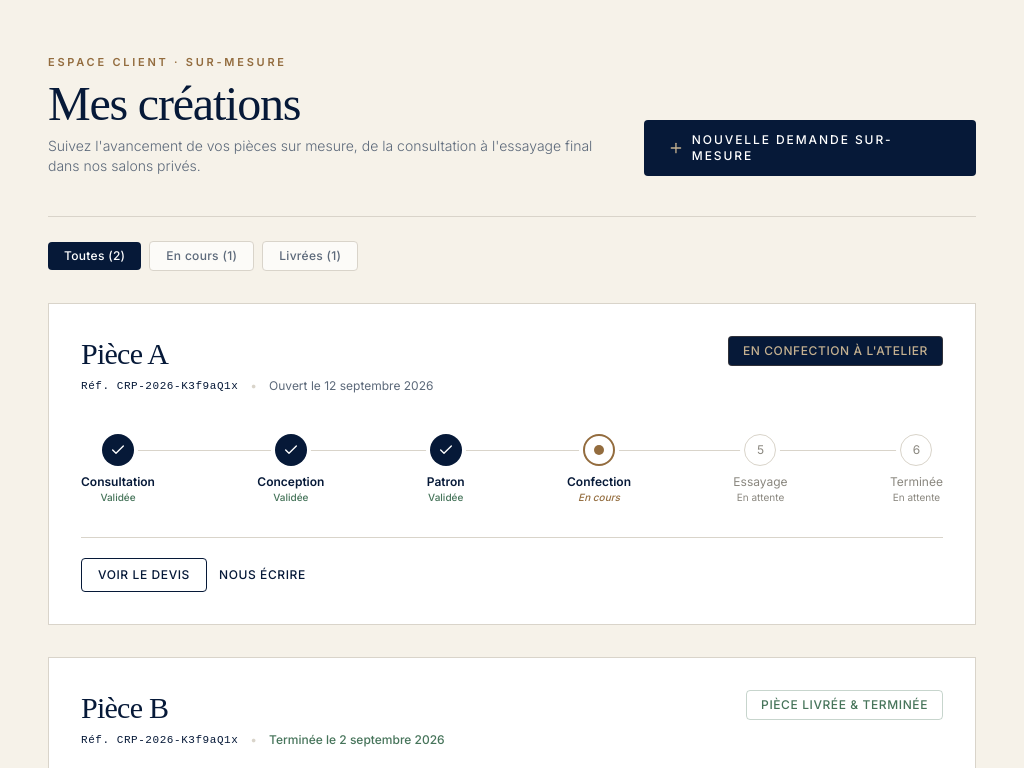
Test: MesCreationsPage › filters in-progress and delivered projects with counts
Expected: the tab "Toutes (2)" is shown, [48,242,141,270]
Click the tab "Livrées (1)".
click(310, 256)  # box [262,241,358,271]
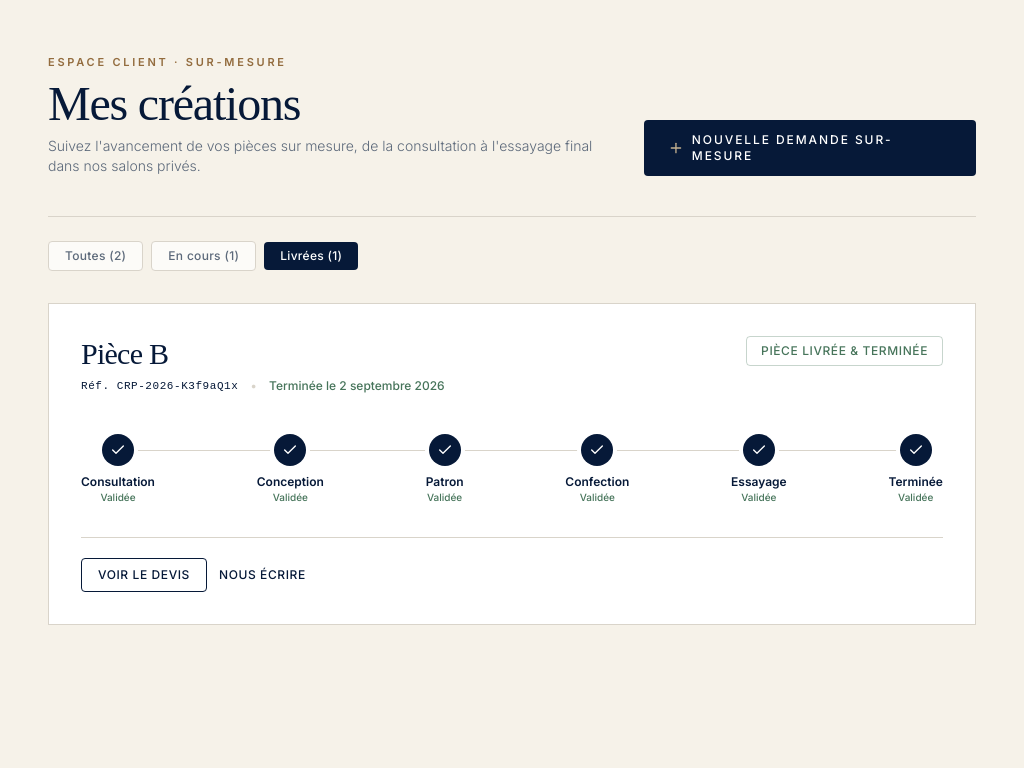
Expected: the heading "Pièce B" is shown, [81,337,168,370]
Now the heading "Pièce A" is gone
Click the tab "En cours (1)".
click(204, 256)  # box [151,241,256,271]
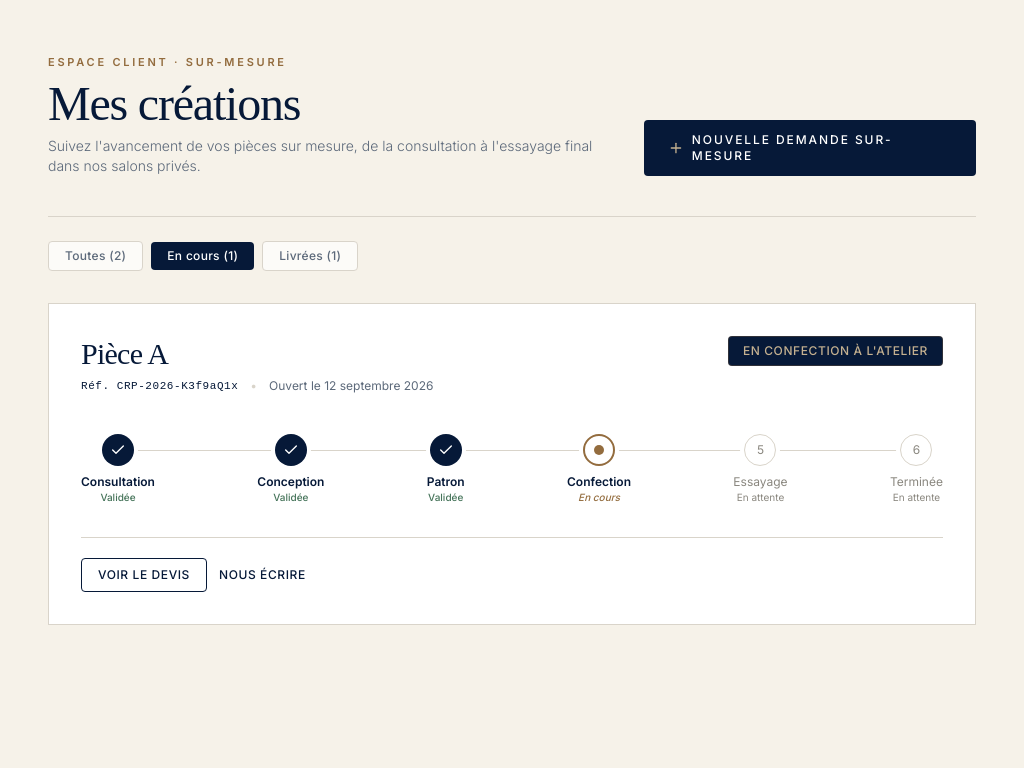
Now the heading "Pièce A" is shown, box [81,337,168,370]
Now the heading "Pièce B" is gone
